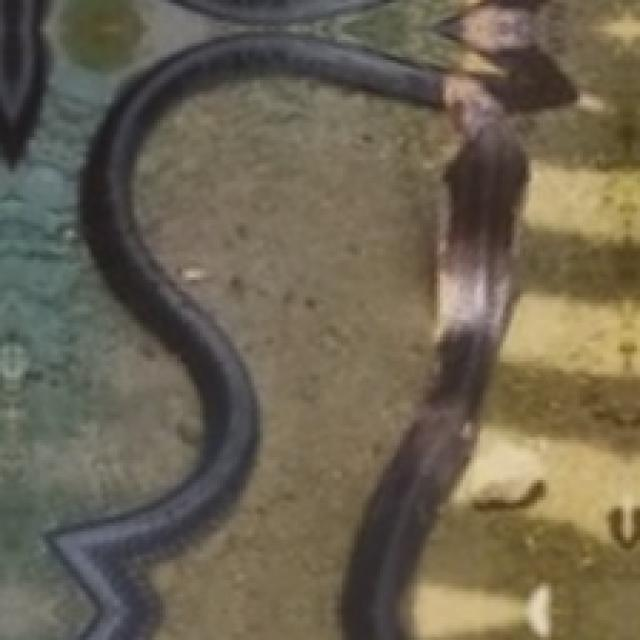king cobra: (49, 34, 526, 637)
